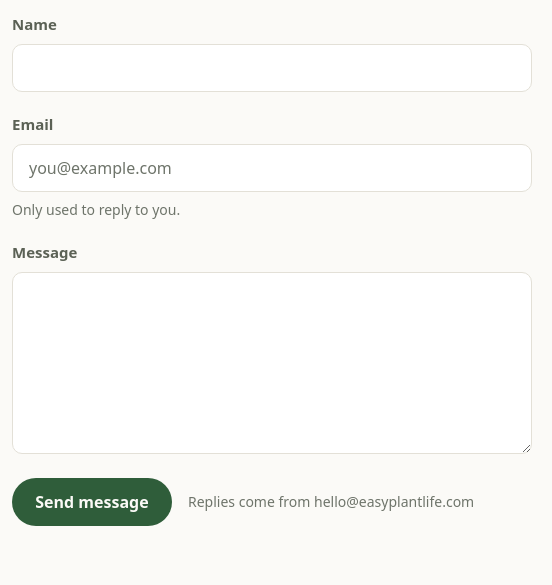
Scenario: ContactForm › Validation › requires an email
The image size is (552, 585).
In the field labelled "Name": (272, 68) [12,44,532,92], type "Maya"
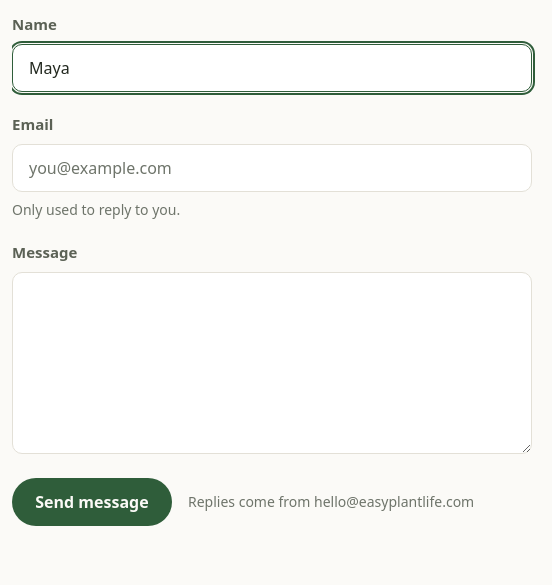
Click the button "Send message": (92, 502) [12,478,172,526]
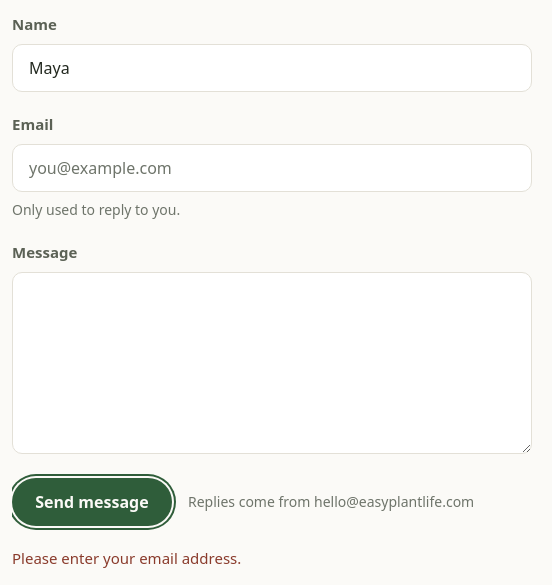
Now the message reads "Please enter your email address.", box [12,548,241,568]
